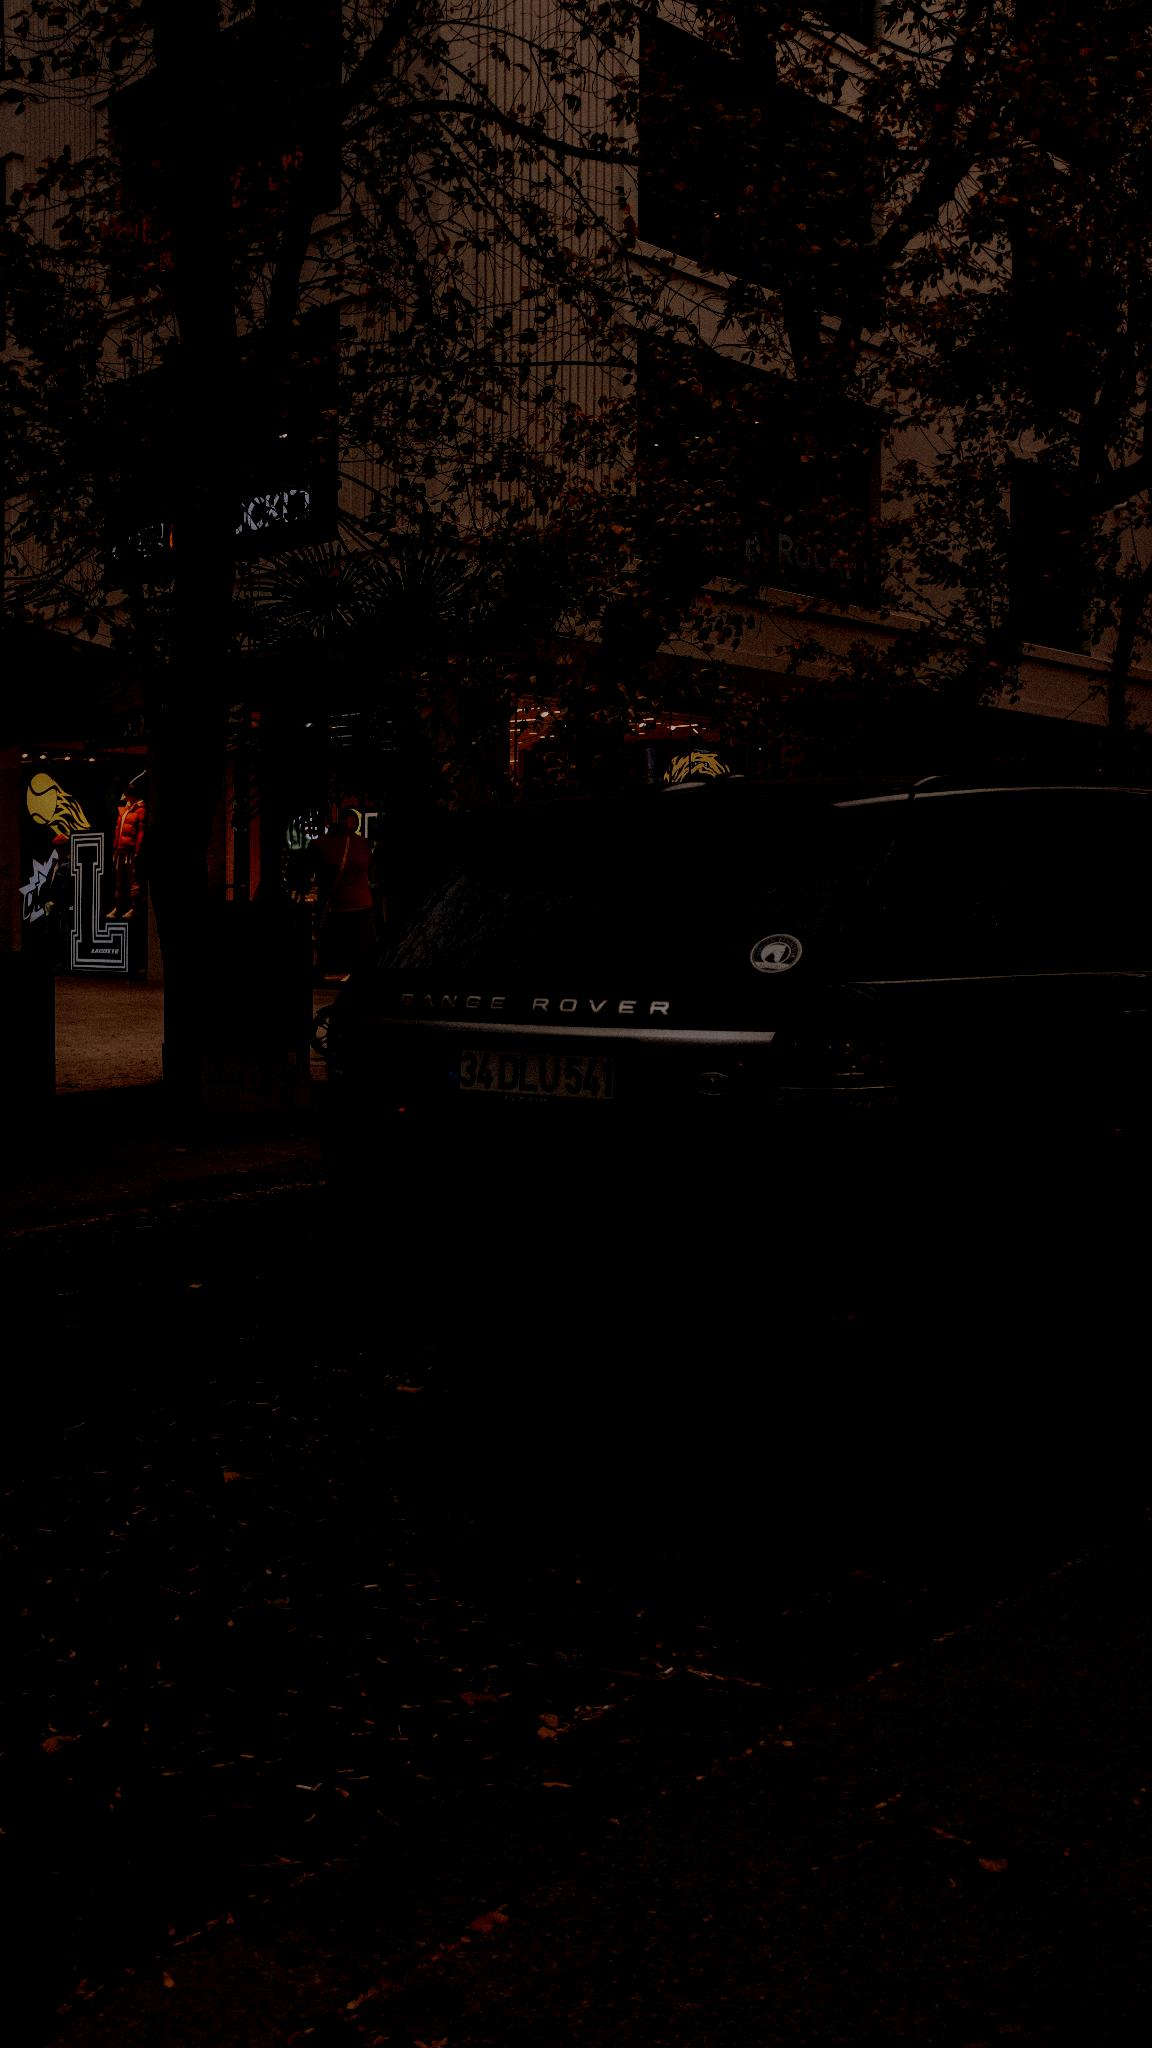range rover: (384, 980, 696, 1027)
